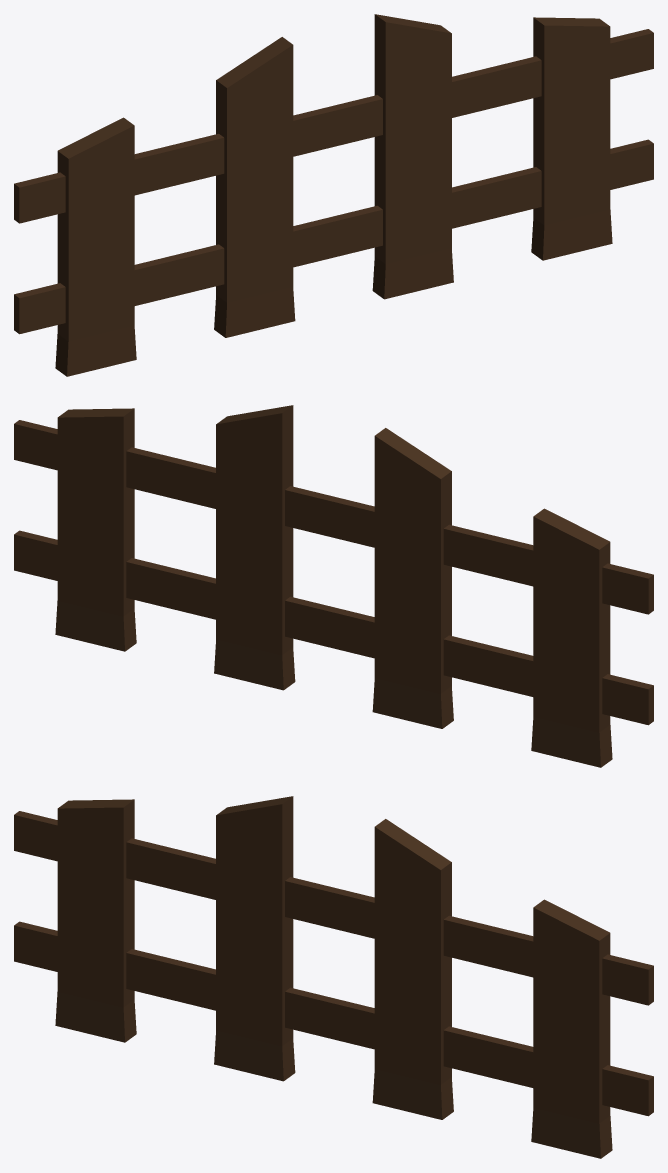
Rendered from Fence_10_Dark_Brown.fbx.
The picture shows the model from 3 angles, top to bottom: view 1: azimuth 30°, elevation 25°; view 2: azimuth 150°, elevation 25°; view 3: azimuth 330°, elevation 25°; orthographic projection.
Visible parts, largest first — view 1: Fence_10_Dark_Brown; view 2: Fence_10_Dark_Brown; view 3: Fence_10_Dark_Brown.
Part boxes in pixels (x1,y1,x2,y2): Fence_10_Dark_Brown: (14, 14, 653, 376); Fence_10_Dark_Brown: (14, 405, 653, 767); Fence_10_Dark_Brown: (14, 796, 653, 1158).
Size of the model in its own units: 240 by 100 by 7.59.
